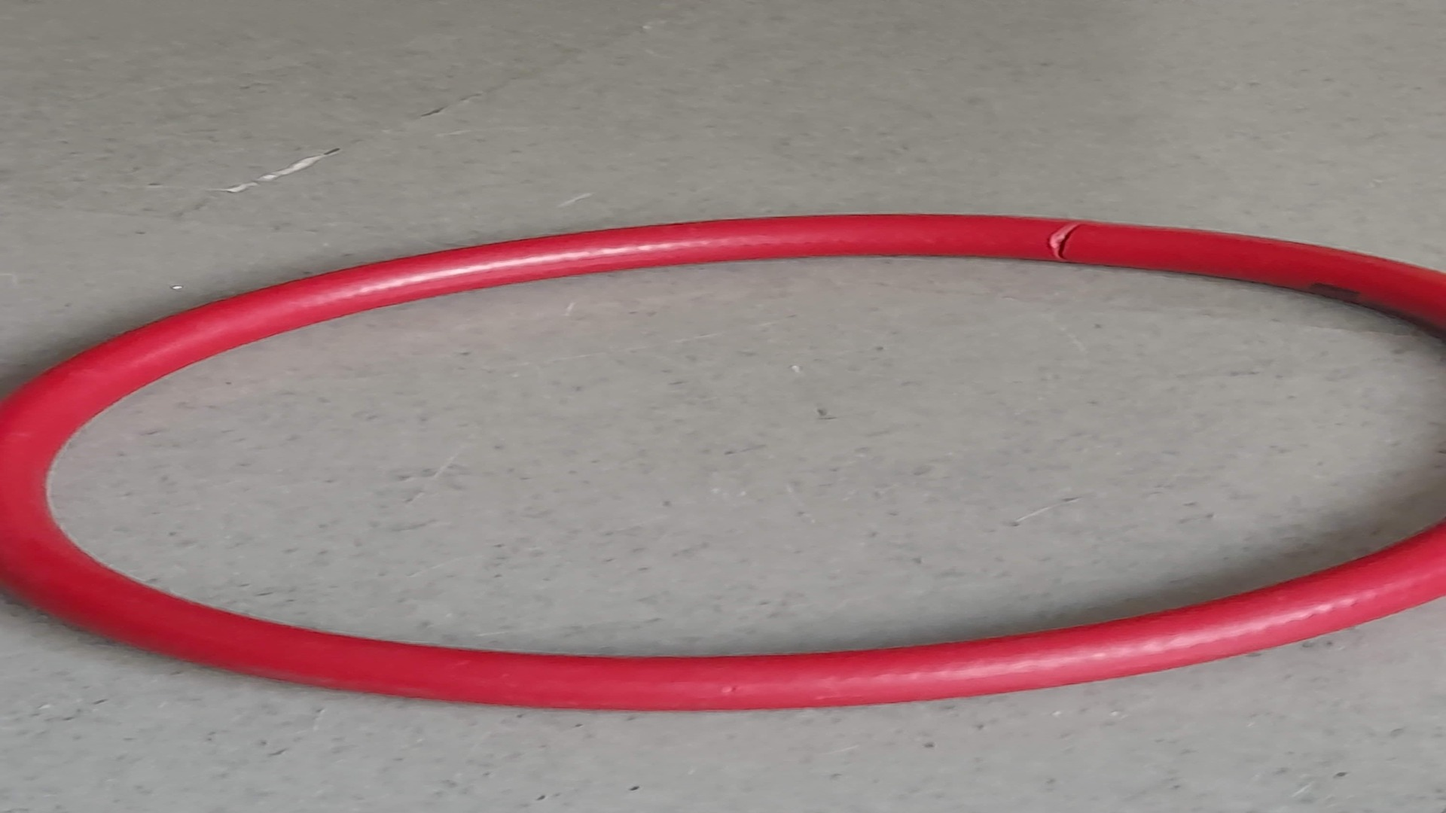Red ring: (6, 211, 1435, 708)
